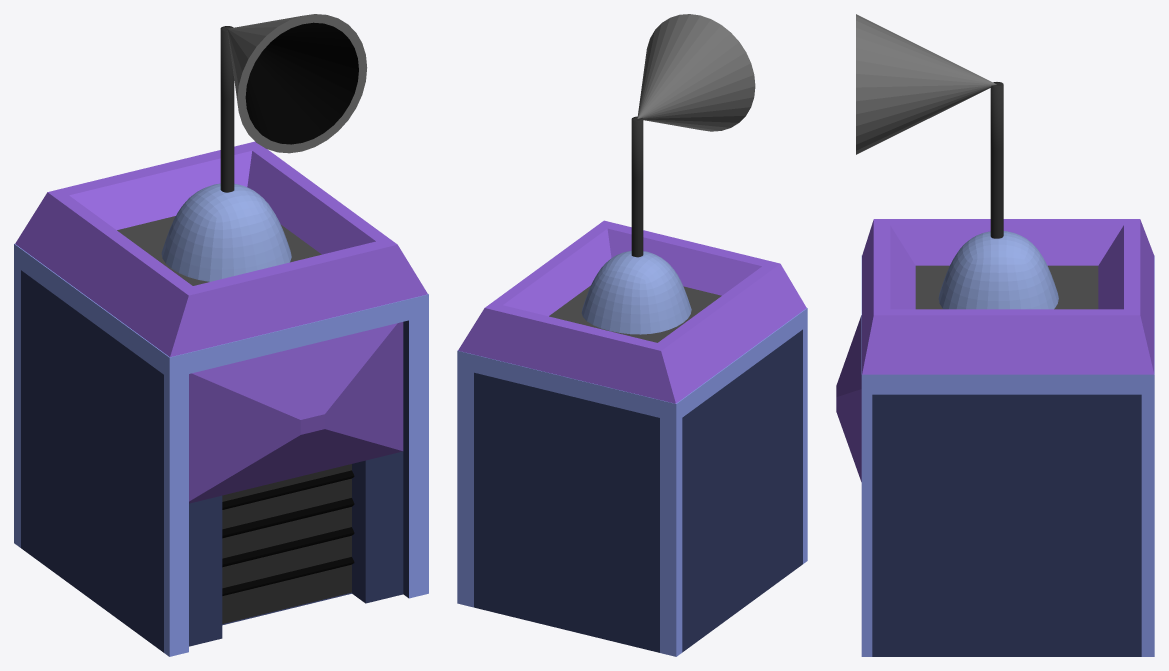
The picture shows the model from 3 angles, left to right: view 1: azimuth 30°, elevation 25°; view 2: azimuth 150°, elevation 25°; view 3: azimuth 270°, elevation 25°; orthographic projection. The views are drawn at different scales.
Parts seen in each view (by area): view 1: ConjuntoBase2, PortónBase2, Faro; view 2: ConjuntoBase2, Faro; view 3: ConjuntoBase2, Faro.
Part boxes in pixels (x1=…): ConjuntoBase2: x1=14, y1=26, x2=428, y2=656; PortónBase2: x1=222, y1=464, x2=354, y2=623; Faro: x1=227, y1=14, x2=367, y2=153; ConjuntoBase2: x1=457, y1=116, x2=807, y2=656; Faro: x1=637, y1=14, x2=755, y2=131; ConjuntoBase2: x1=836, y1=82, x2=1154, y2=656; Faro: x1=856, y1=14, x2=996, y2=154.
Bounding box in the file's own units: 200 × 451 × 226.
